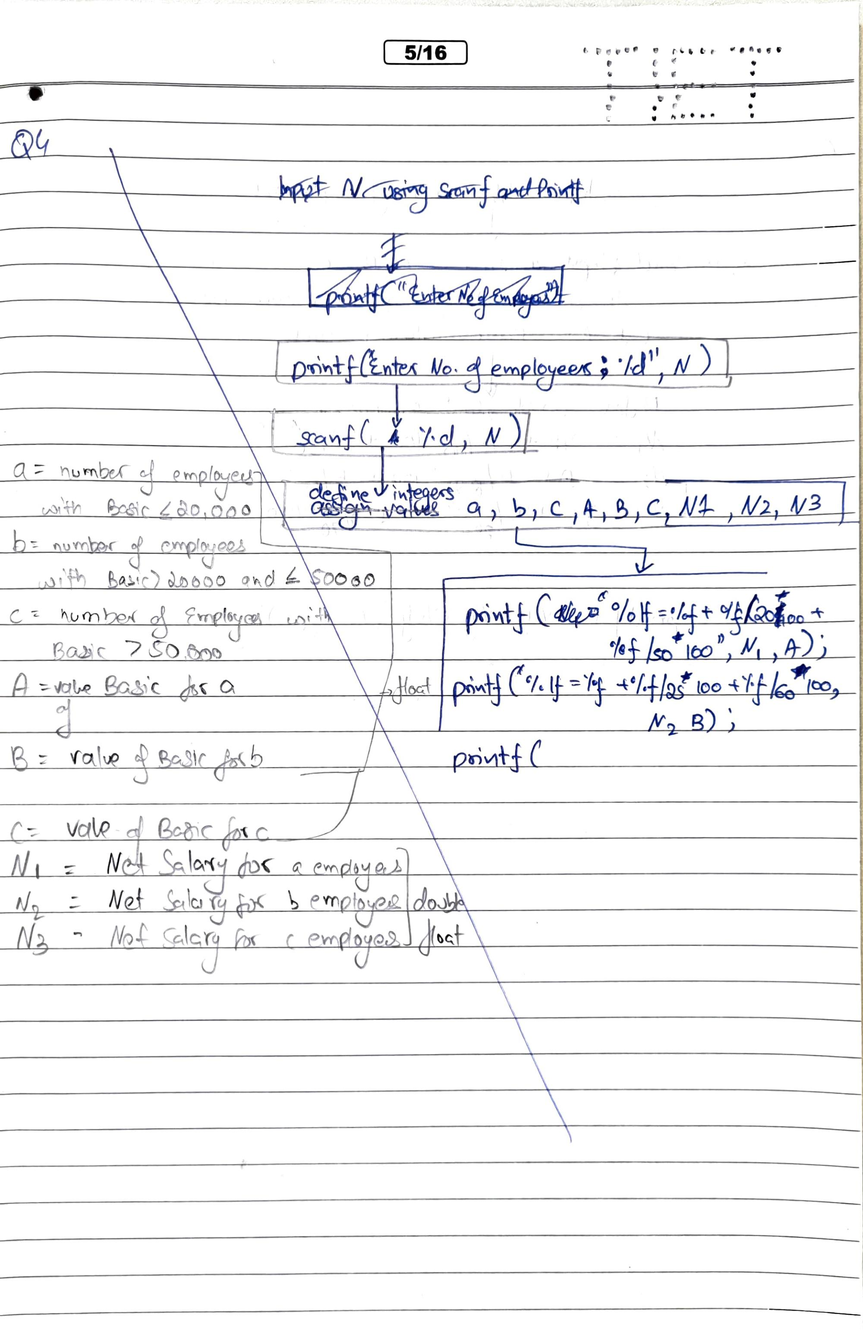cuttings: (5, 138, 848, 1147)
